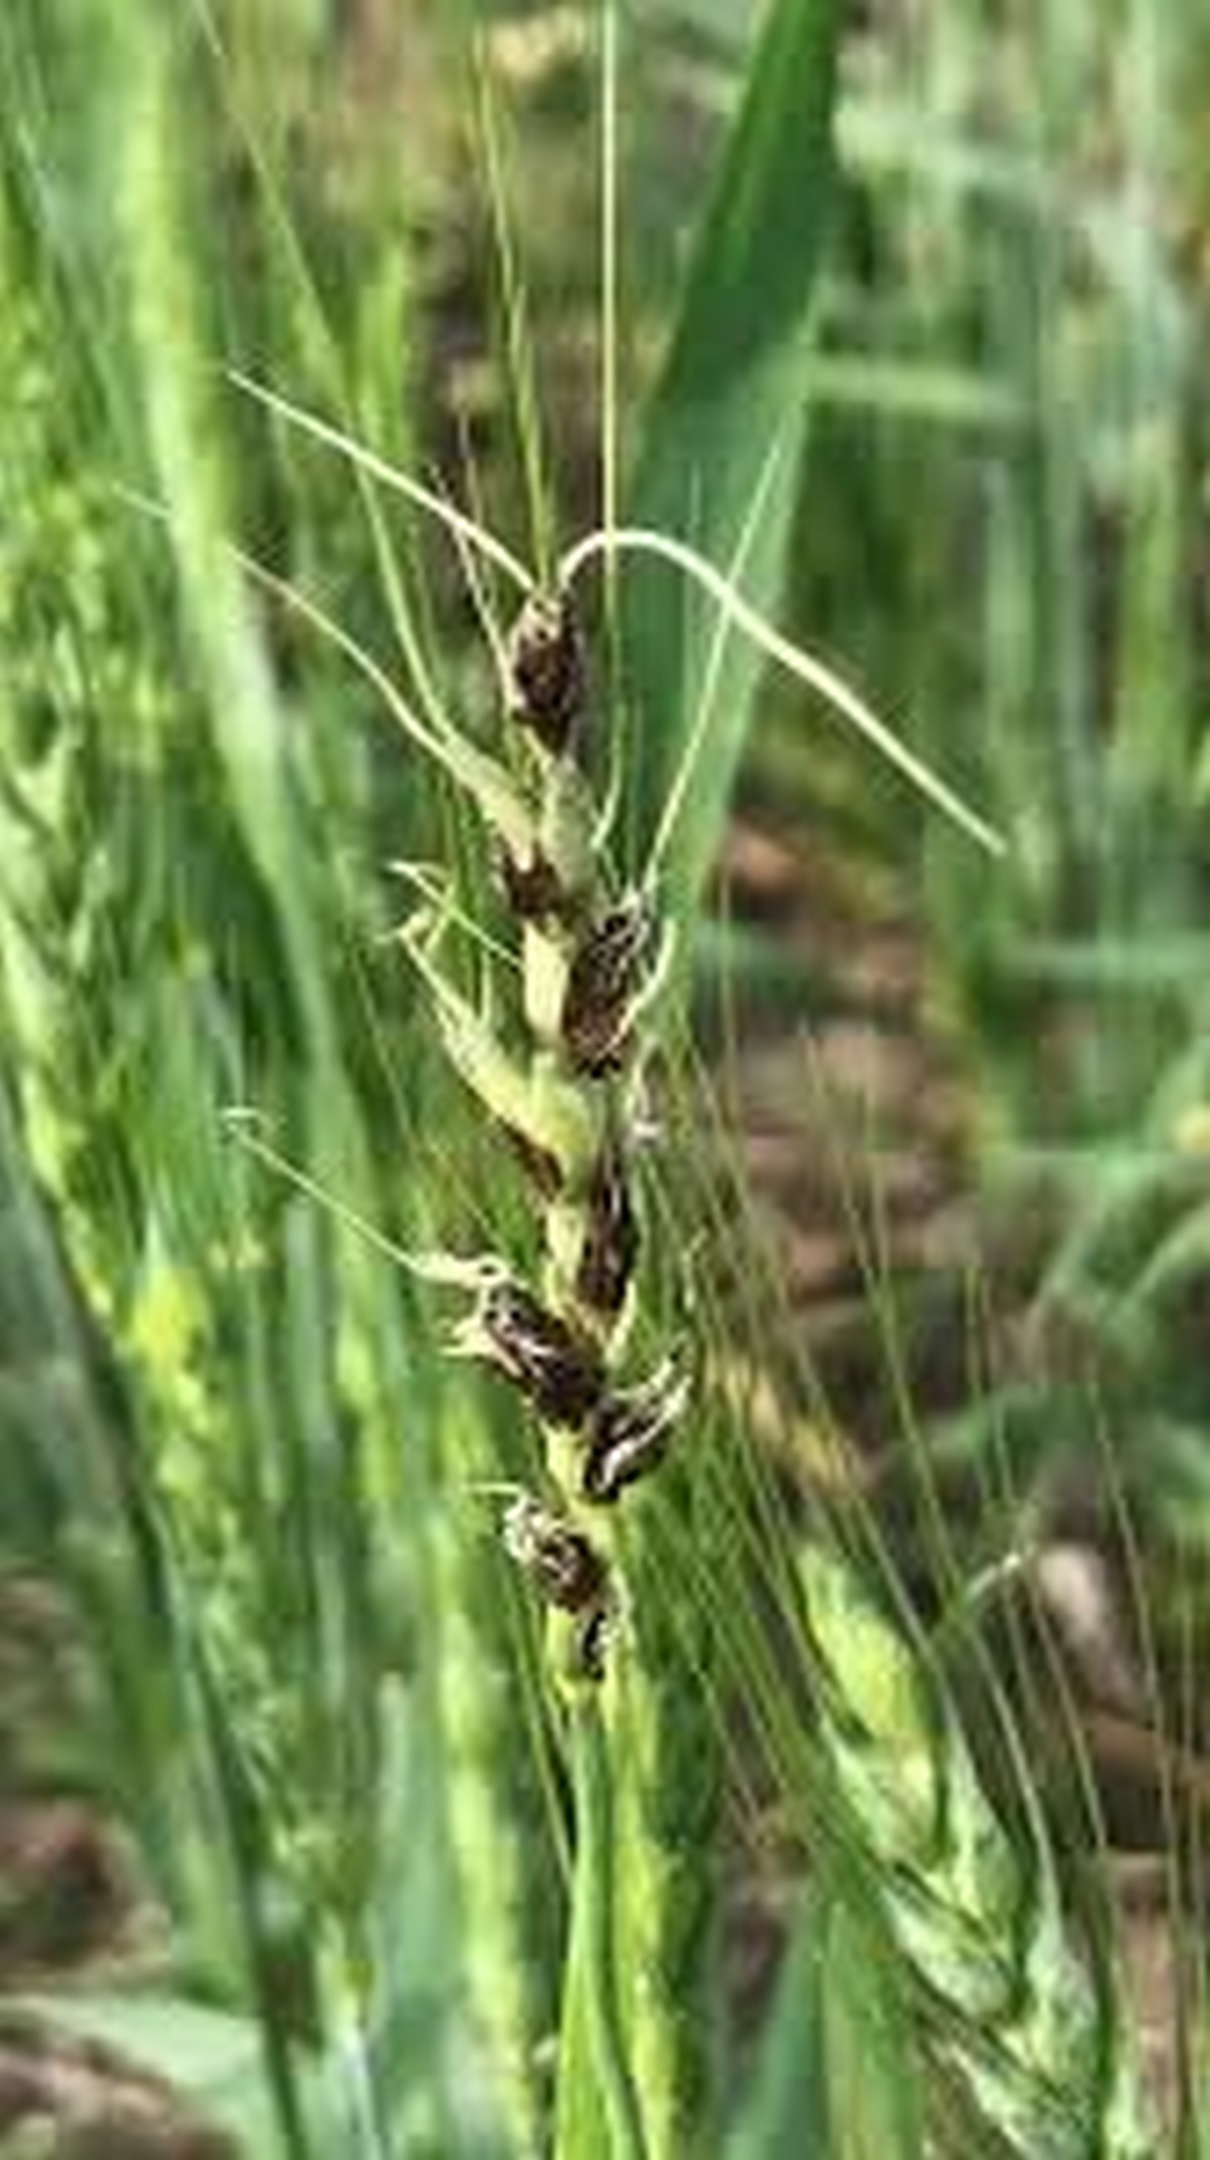Wheat Loose Smut: (420, 556, 718, 1675)
